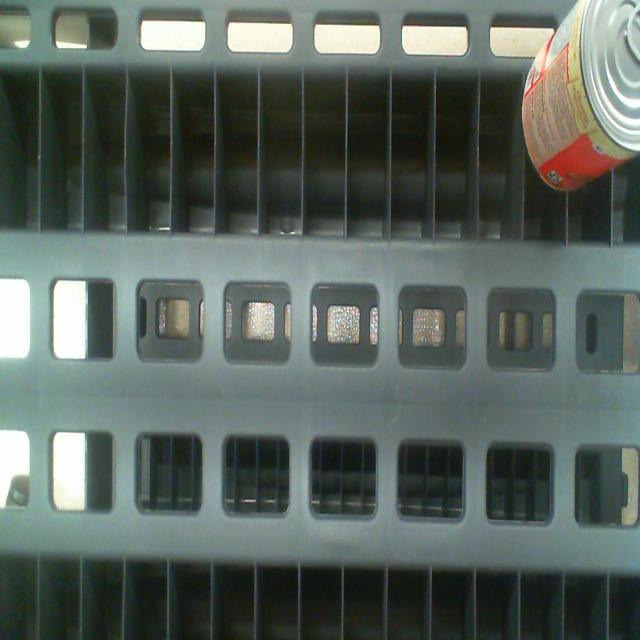can: (580, 1, 640, 152)
